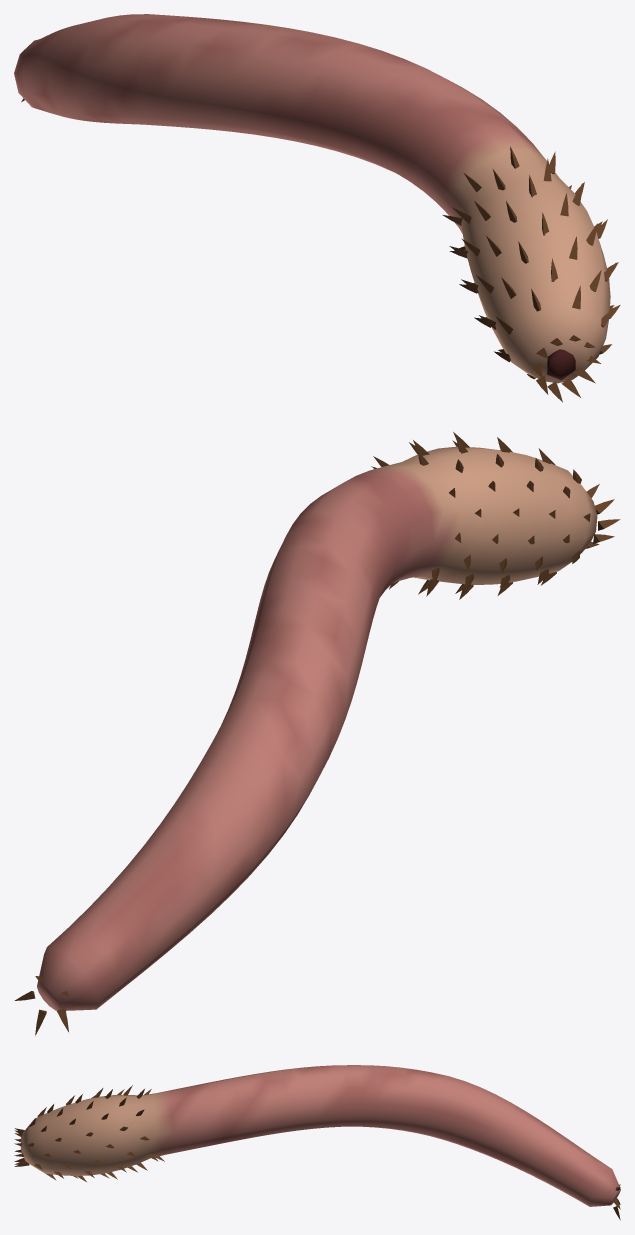
The model's file is Ottoia.fbx.
3 renders of one model, top to bottom at view 1: azimuth 30°, elevation 25°; view 2: azimuth 150°, elevation 25°; view 3: azimuth 270°, elevation 25°, orthographic. The views are drawn at different scales.
Parts seen in each view (by area): view 1: Ottoia; view 2: Ottoia; view 3: Ottoia.
Boxes of the visible parts, <box> form: Ottoia: <box>14,14,620,402</box>; Ottoia: <box>14,432,620,1035</box>; Ottoia: <box>14,1065,620,1220</box>.
Bounding box in the file's own units: 0.3018 × 0.3439 × 1.24.
